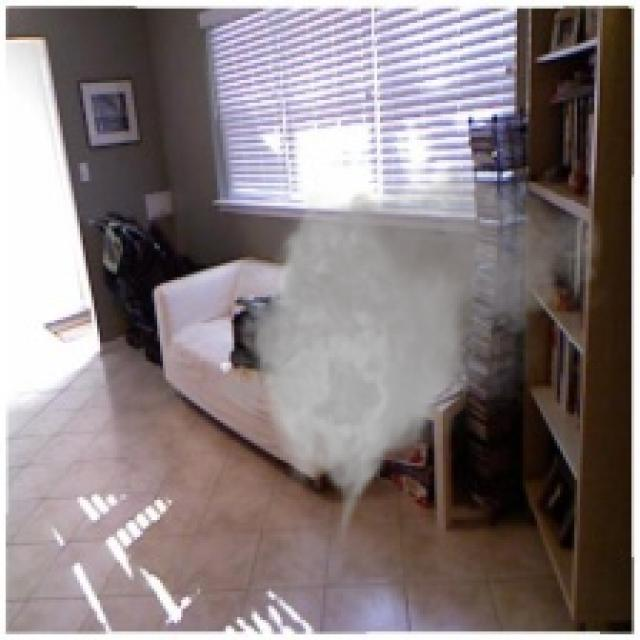Smoke: (206, 152, 608, 548)
